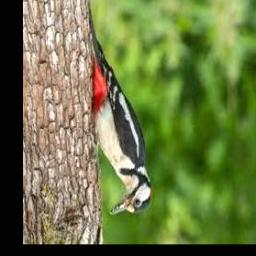Woodpecker: (88, 3, 152, 214)
